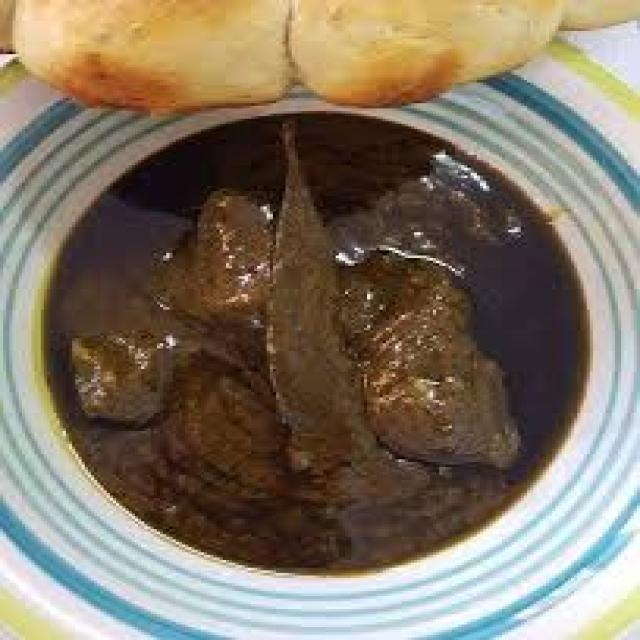Melloukhia: (88, 126, 597, 525)
